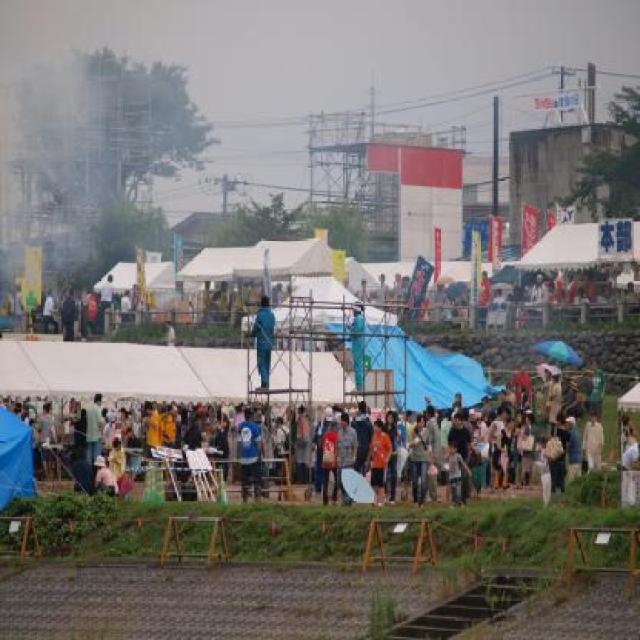Person: (0, 269, 638, 509)
